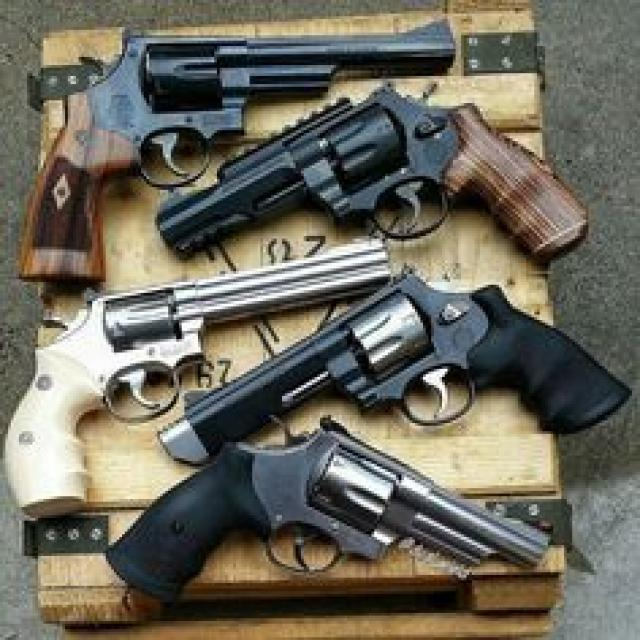revolver: (7, 2, 628, 294)
